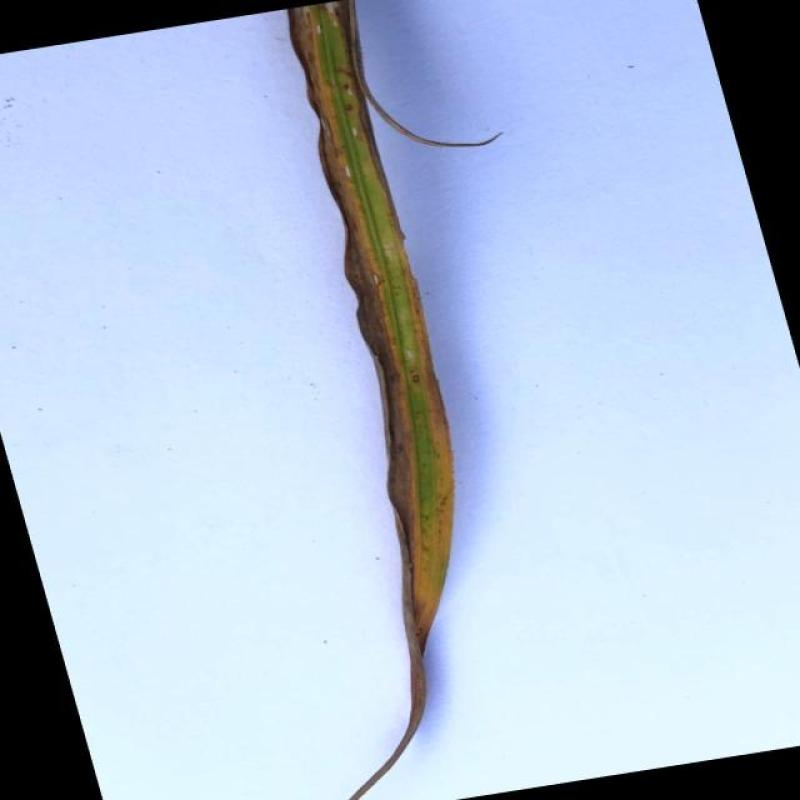Rice Tungro: (280, 2, 465, 636)
